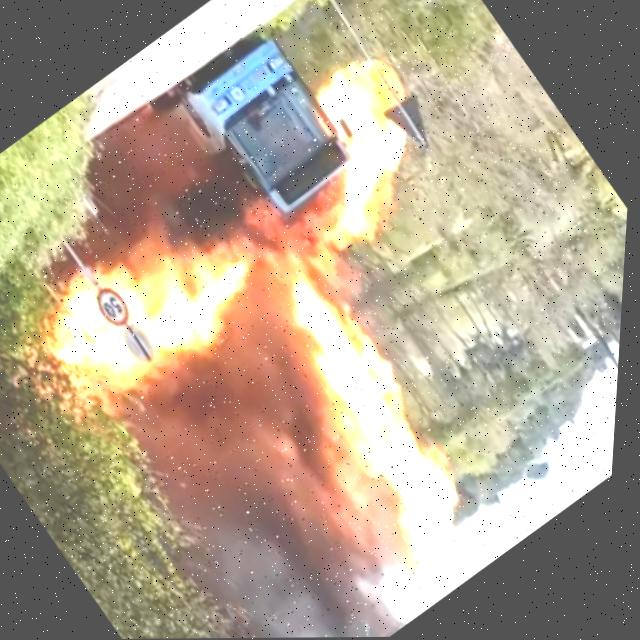Fire: (227, 260, 531, 604), (15, 195, 284, 442), (264, 63, 467, 256)
Smoke: (113, 363, 430, 639), (64, 106, 192, 225)
